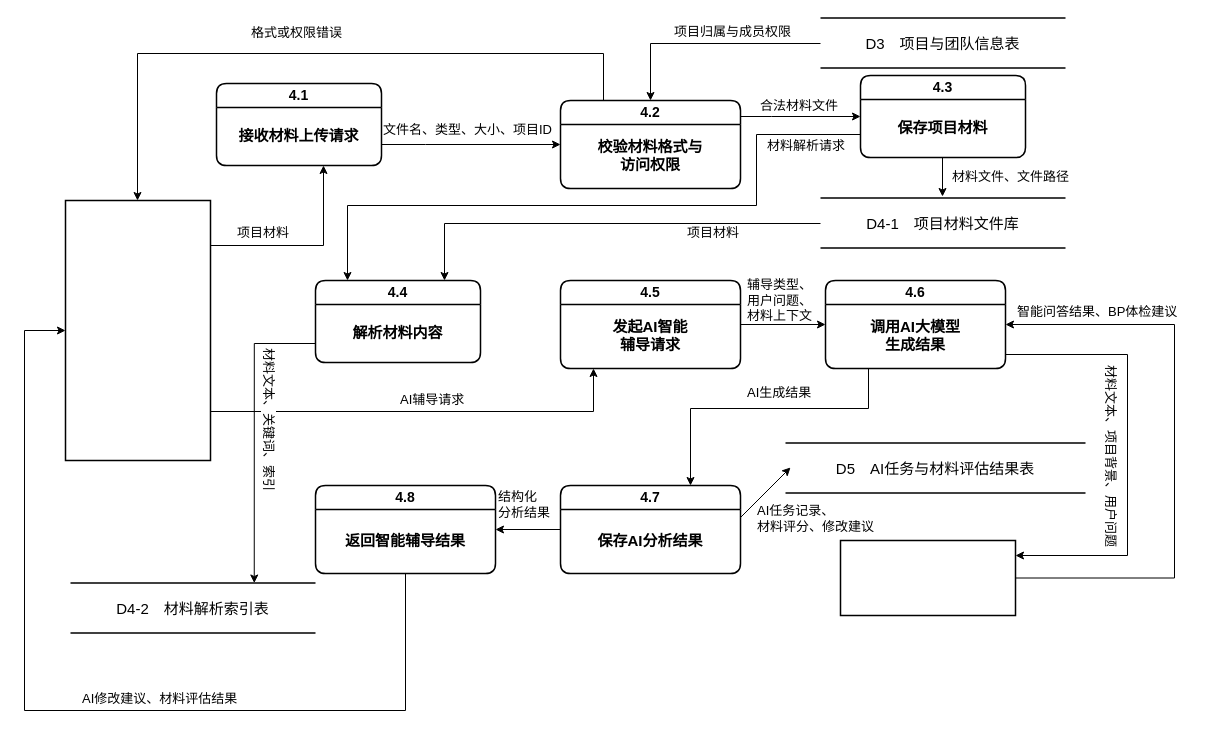
Image size: 1221x740. Some labels were removed from this diagram. Each missing label, with the box of its shape:
AI大模型服务: (839, 539, 1016, 616)
学生: (64, 199, 211, 461)
